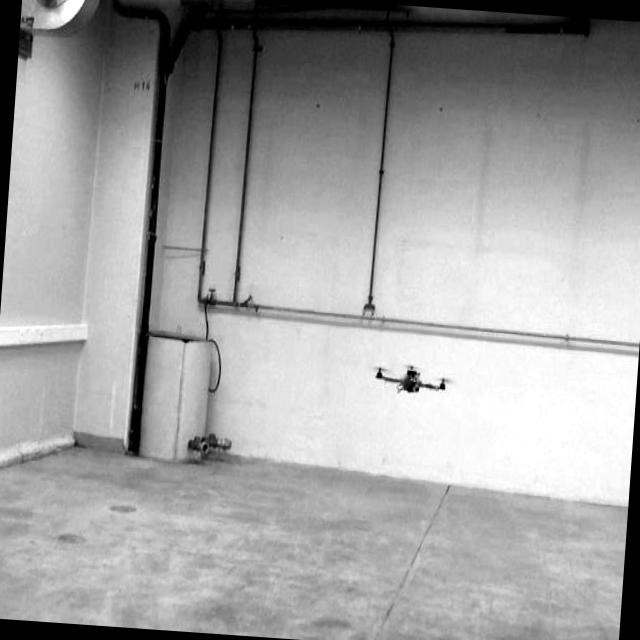drone: (369, 357, 452, 400)
